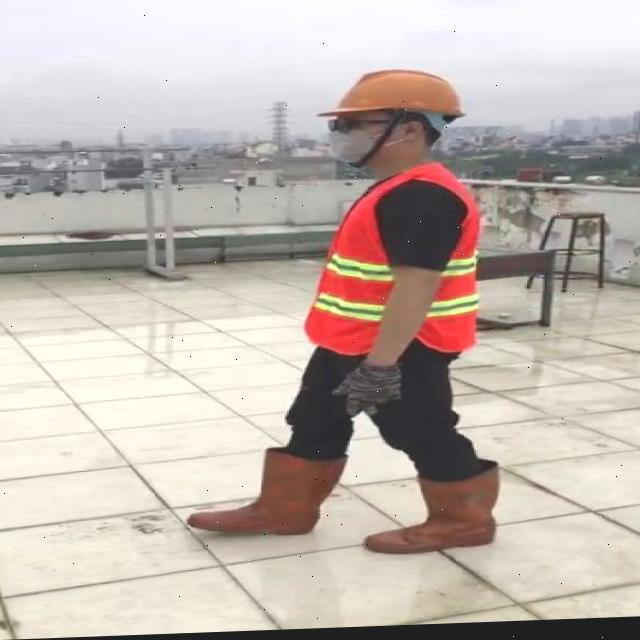Gloves: (331, 363, 402, 421)
Helmet: (314, 67, 467, 127)
Safety-Boot: (186, 445, 347, 541), (364, 461, 500, 558)
Safety-Vest: (304, 163, 481, 362)
